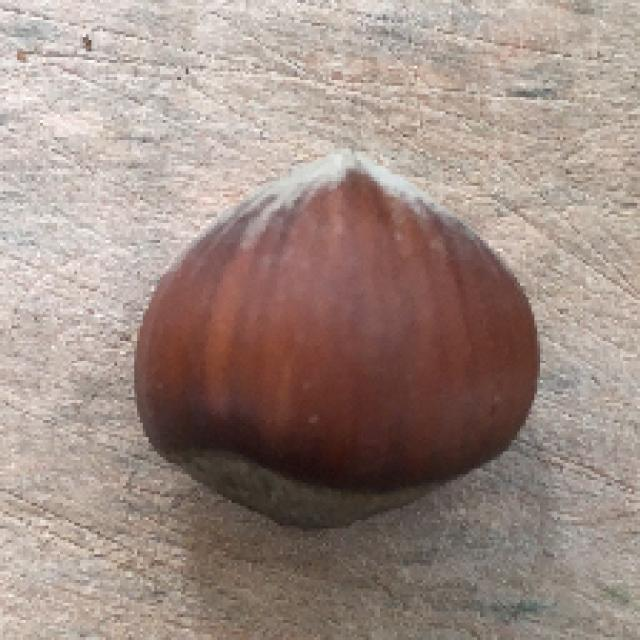qualityHazelnut: (129, 138, 554, 539)
